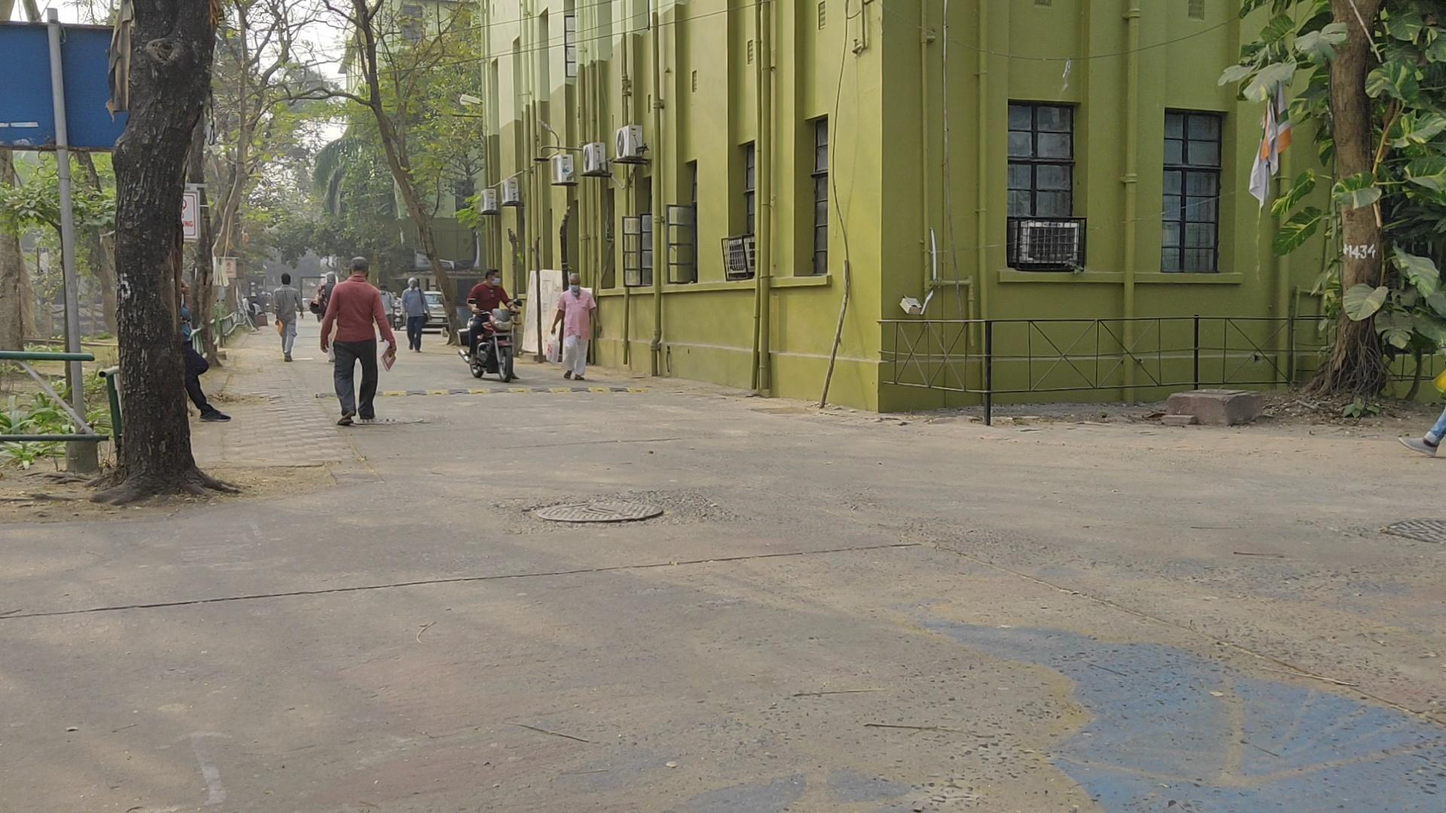bike: (459, 268, 521, 380)
